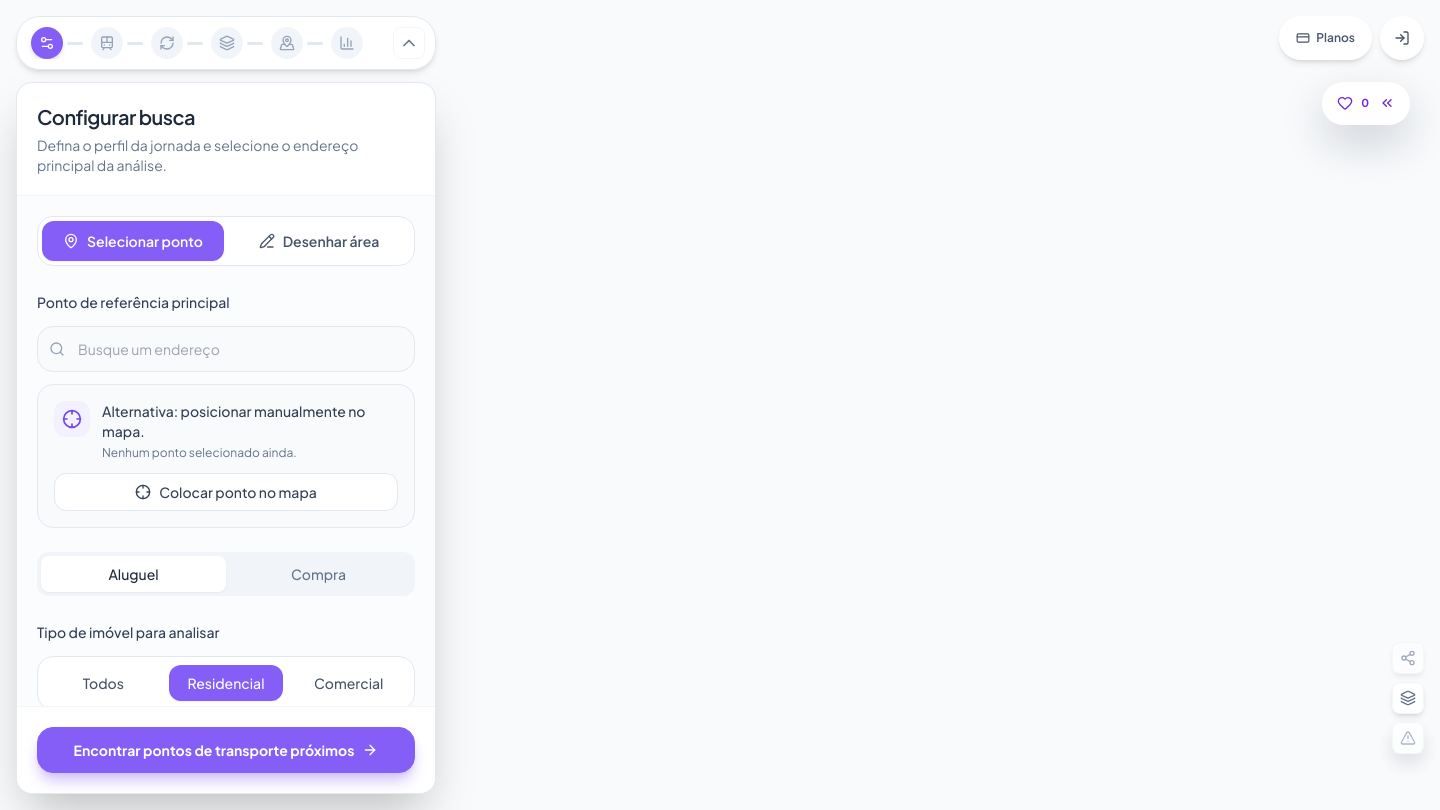
Test: App frontend FE smoke › toggles panel minimize and restore
Click the button named "Minimizar painel" at (409, 43), box [393,27,425,59]
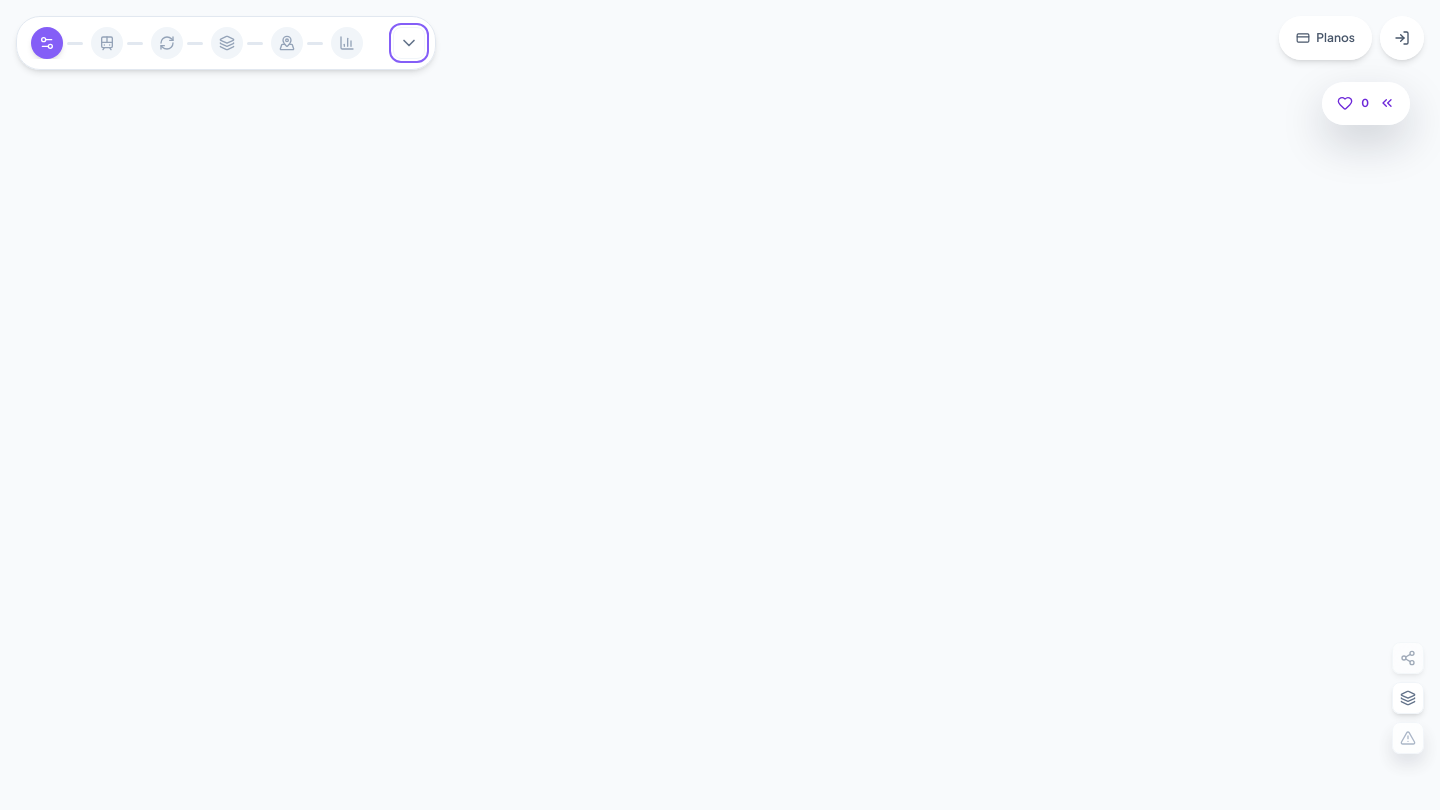
Expected: the button named "Expandir painel" is shown
Click the button named "Expandir painel" at (409, 43), box [393,27,425,59]
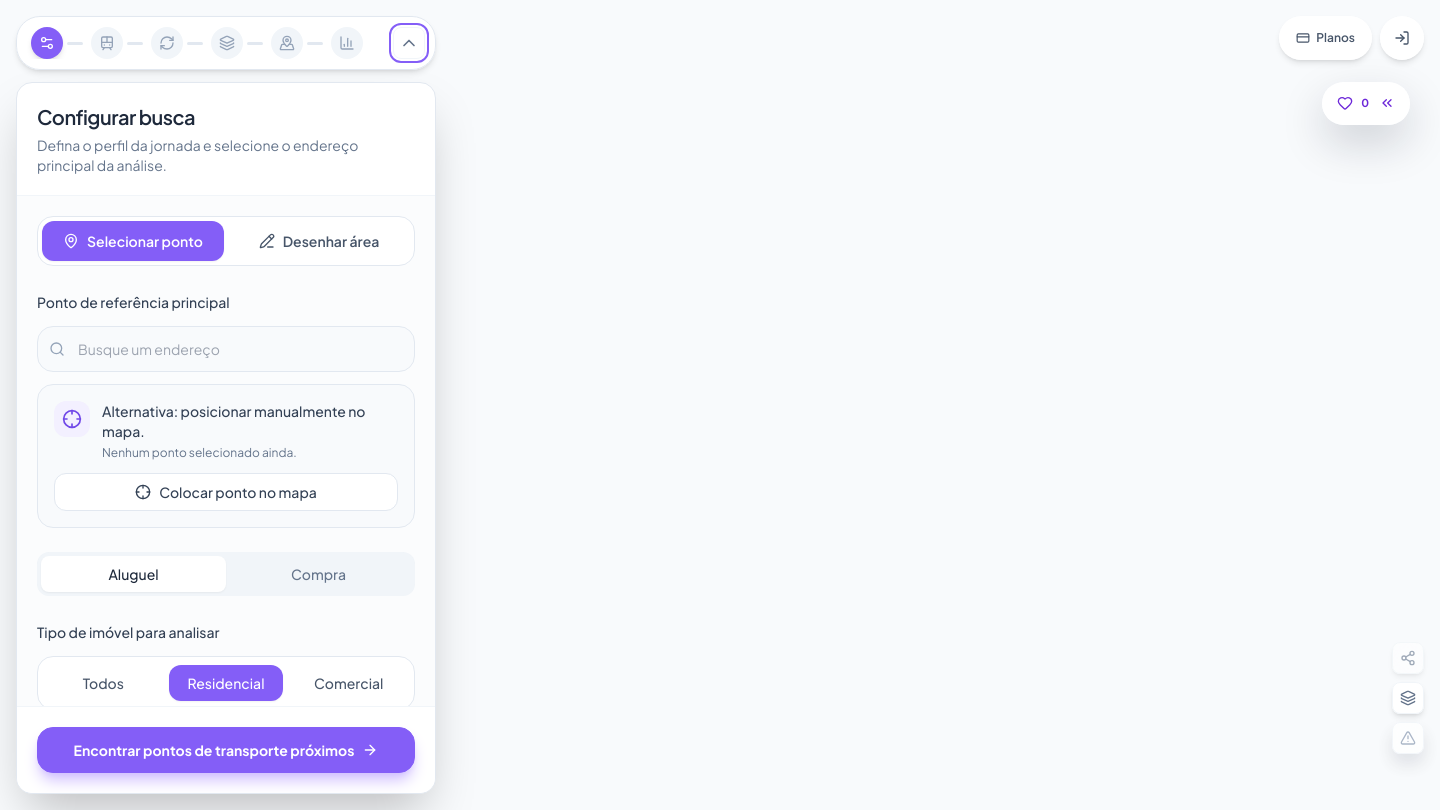
Expected: the button named "Minimizar painel" is shown, [393,27,425,59]
